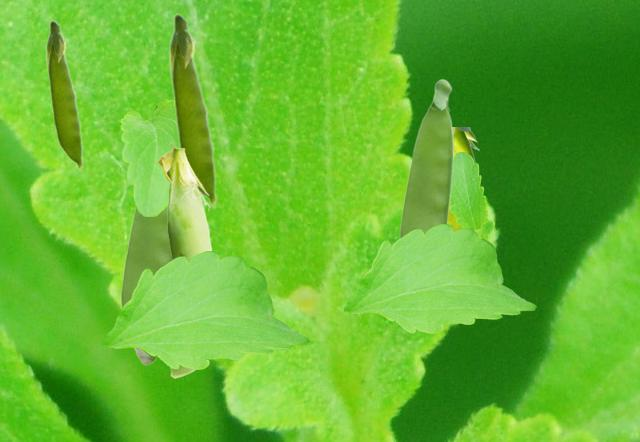pea: (157, 141, 213, 377), (168, 12, 217, 208), (399, 78, 453, 237), (120, 206, 170, 364), (45, 19, 83, 171), (449, 127, 480, 230)
